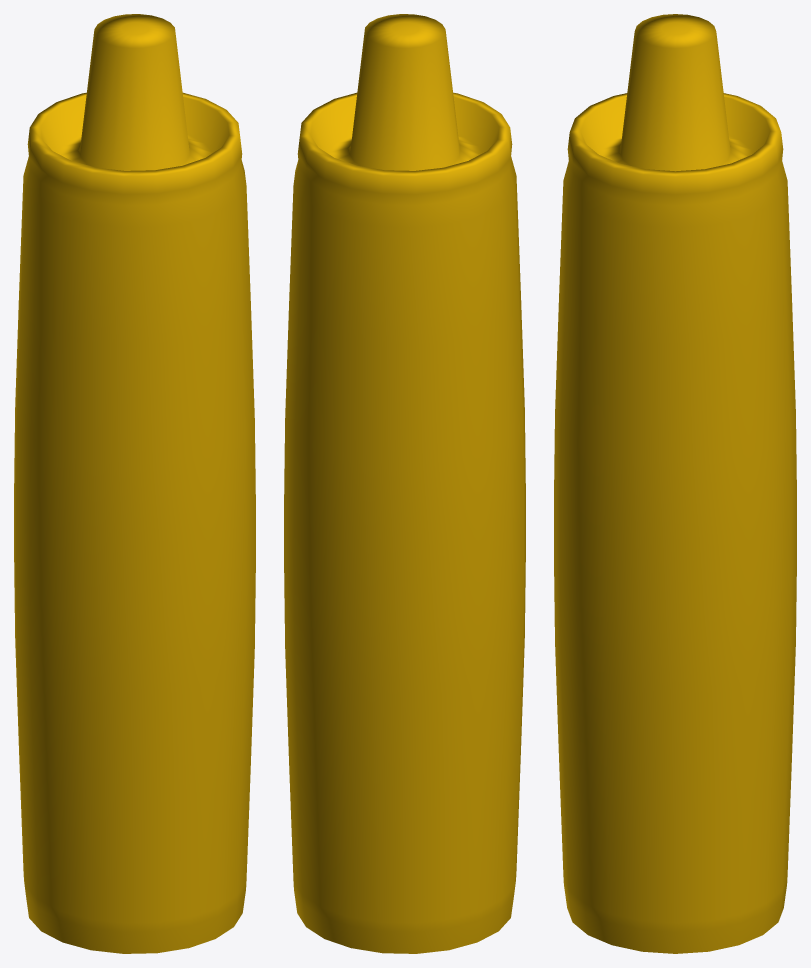
File: Spray.fbx
3 renders of one model, left to right at view 1: azimuth 30°, elevation 25°; view 2: azimuth 150°, elevation 25°; view 3: azimuth 270°, elevation 25°, orthographic.
Parts seen in each view (by area): view 1: Spray; view 2: Spray; view 3: Spray.
Boxes of the visible parts, x1,y1,x2,y2 form: Spray: [14, 14, 255, 953]; Spray: [284, 14, 525, 953]; Spray: [554, 14, 796, 953].
Size of the model in its own units: 14.17 by 56.72 by 14.17.
